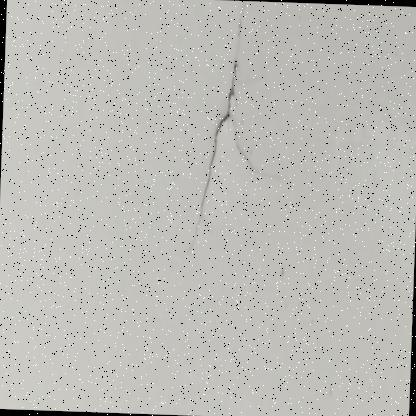Crack: (169, 0, 295, 302)
